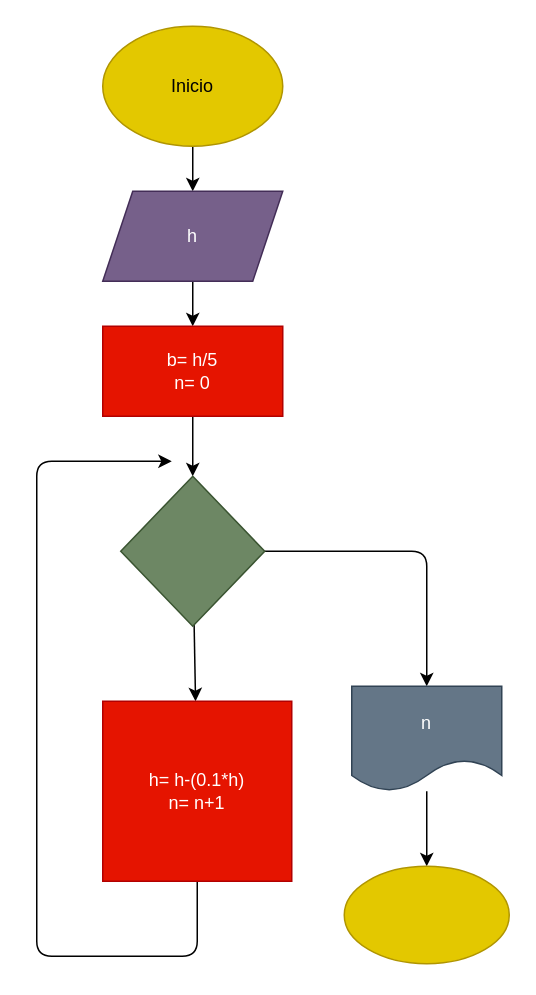
The diagram is 536 pixels wide and 995 high, and some of its shapes have lost their labels. The centre of each missing label's shape, as x and y in pixels:
"b<h" belongs at pixel 192 550.
"Fin" belongs at pixel 426 914.
